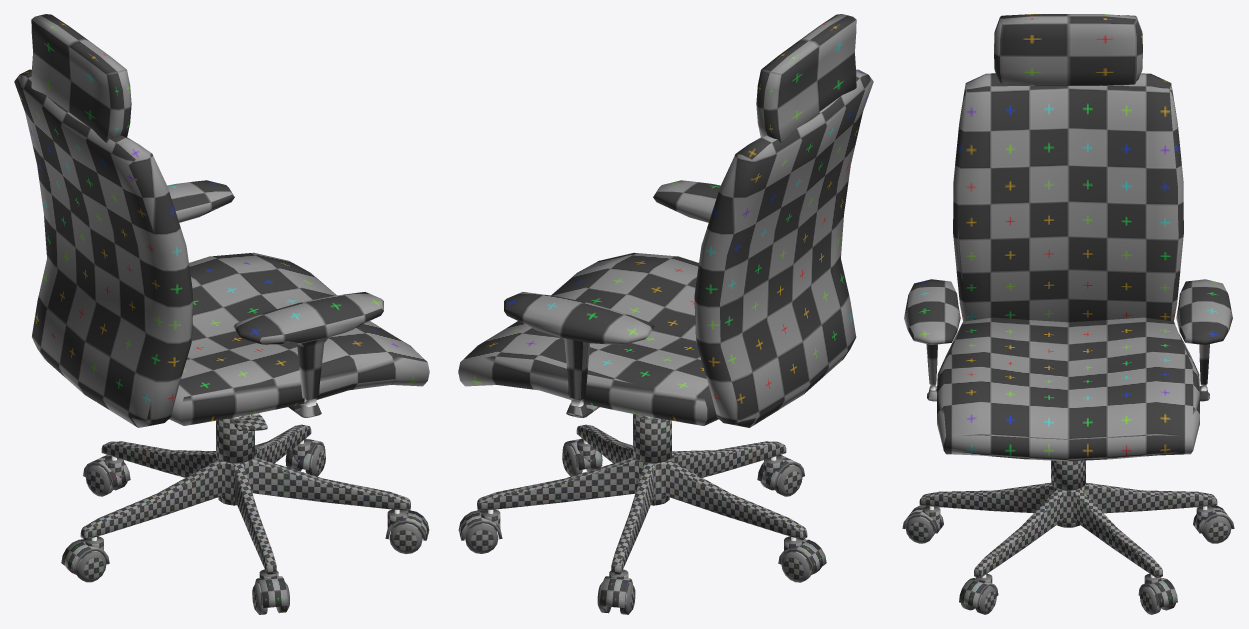
File: officeChair.fbx
The picture shows the model from 3 angles, left to right: view 1: azimuth 30°, elevation 25°; view 2: azimuth 150°, elevation 25°; view 3: azimuth 270°, elevation 25°; orthographic projection. The views are drawn at different scales.
Visible parts, largest first — view 1: Cylinder; view 2: Cylinder; view 3: Cylinder.
Part boxes in pixels (bbox=[...]): Cylinder: bbox=[14, 14, 429, 614]; Cylinder: bbox=[458, 14, 873, 614]; Cylinder: bbox=[902, 14, 1234, 614].
Size of the model in its own units: 402 by 652 by 413.
